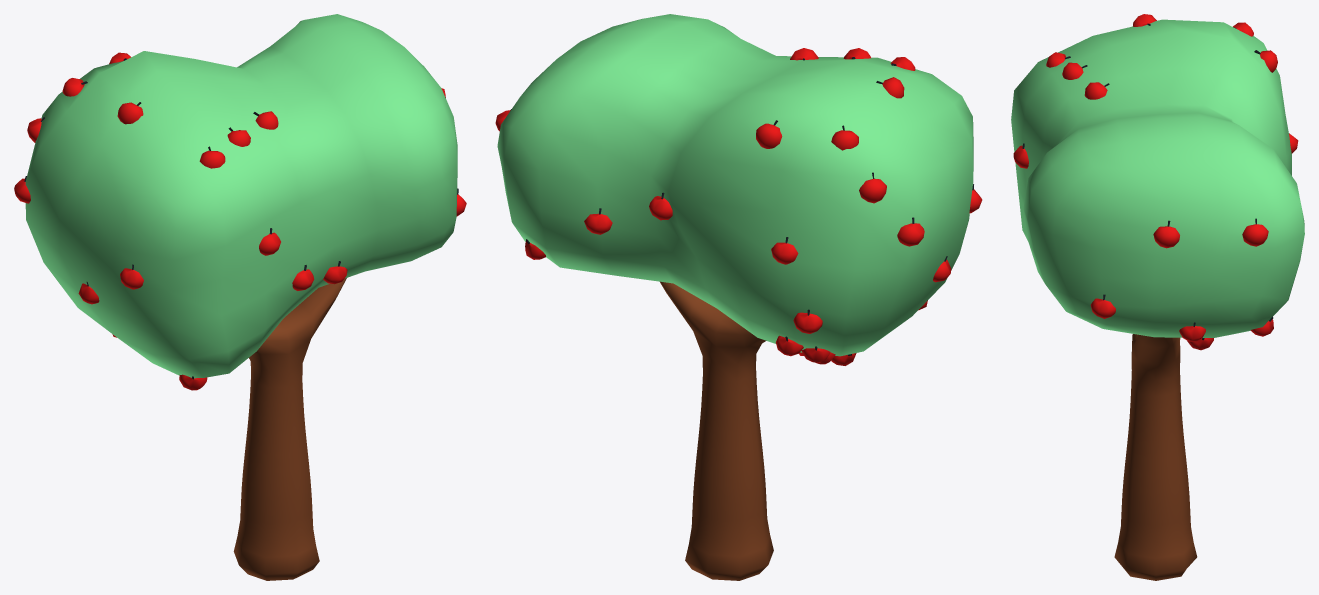
3 views of the same model, side by side, from view 1: azimuth 30°, elevation 25°; view 2: azimuth 150°, elevation 25°; view 3: azimuth 270°, elevation 25° (orthographic). The views are drawn at different scales.
Parts seen in each view (by area): view 1: Leaves.002, Trunk.005; view 2: Leaves.002, Trunk.005; view 3: Leaves.002, Trunk.005, Leaves.002|Icosphere|Dupli|19, Leaves.002|Icosphere|Dupli|6, Leaves.002|Icosphere|Dupli|1.
Boxes of the visible parts, x1,y1,x2,y2 form: Leaves.002: (25, 14, 457, 378); Trunk.005: (233, 278, 346, 580); Leaves.002: (497, 14, 973, 356); Trunk.005: (660, 281, 773, 580); Leaves.002: (1011, 19, 1304, 337); Trunk.005: (1114, 334, 1197, 580); Leaves.002|Icosphere|Dupli|19: (1242, 218, 1268, 246); Leaves.002|Icosphere|Dupli|6: (1153, 220, 1179, 248); Leaves.002|Icosphere|Dupli|1: (1090, 294, 1115, 318).
Size of the model in its own units: 823 by 1519 by 1224.
